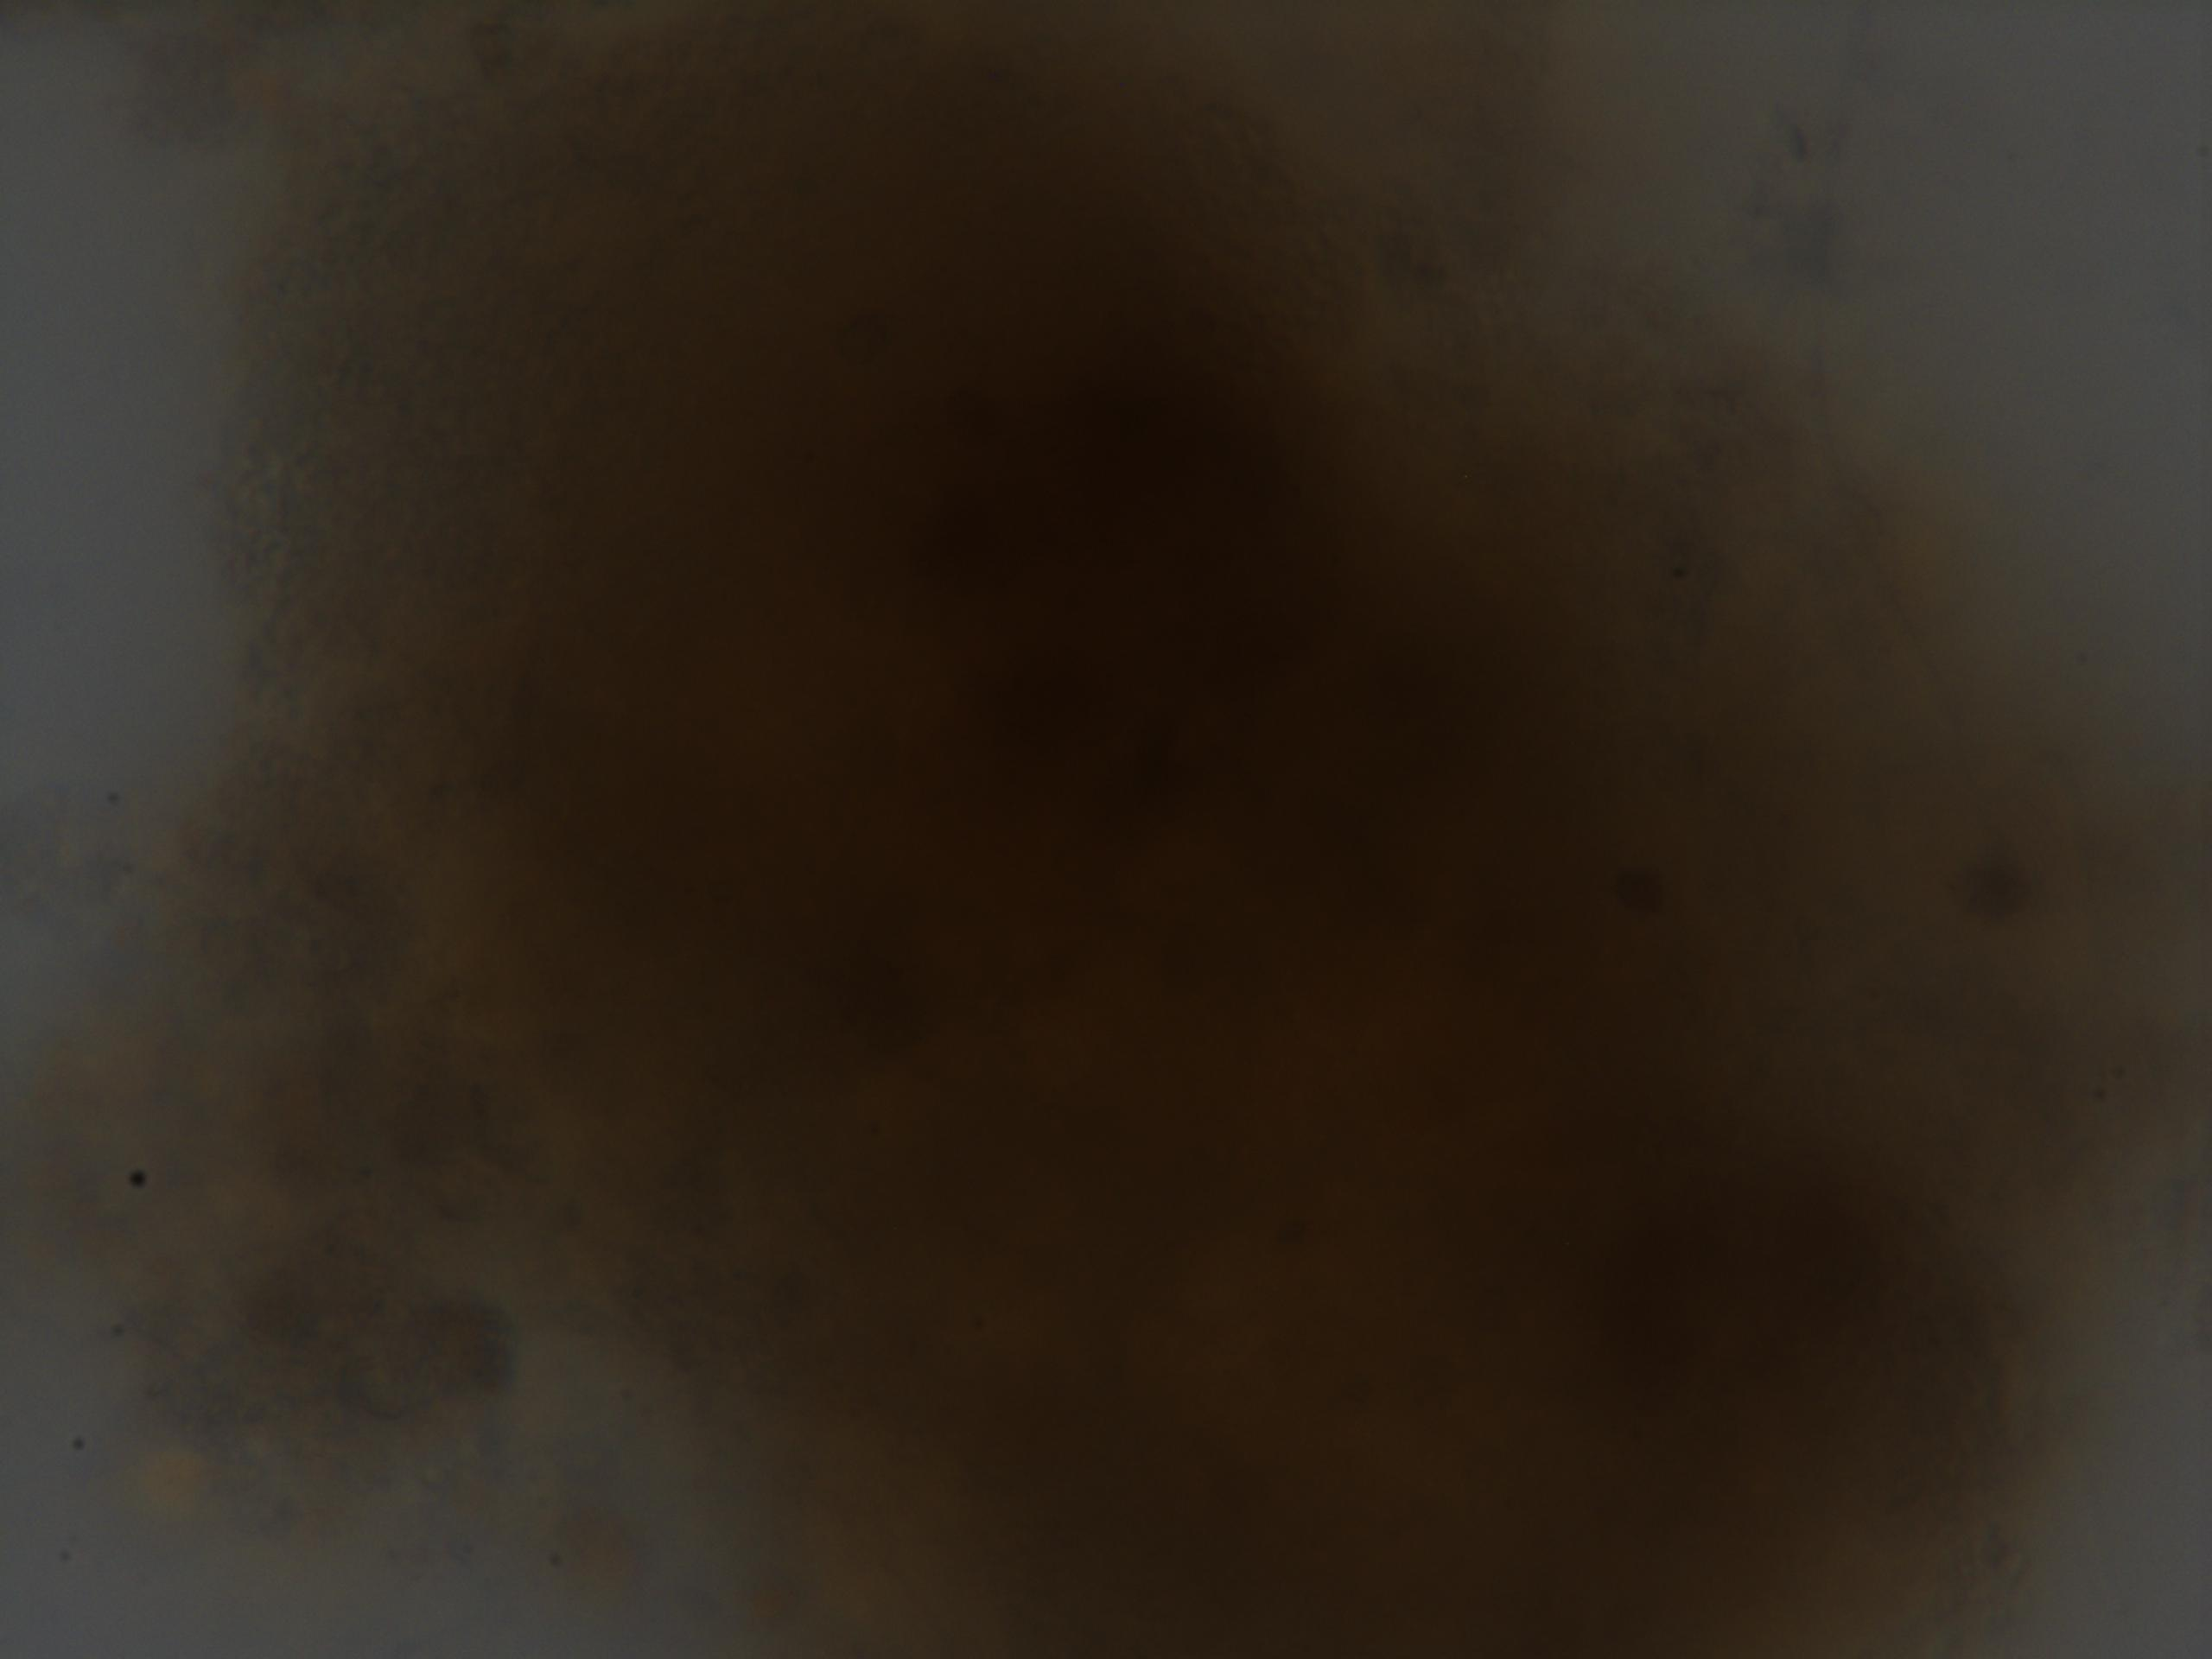spherical_floc: (122, 7, 2212, 1659)
